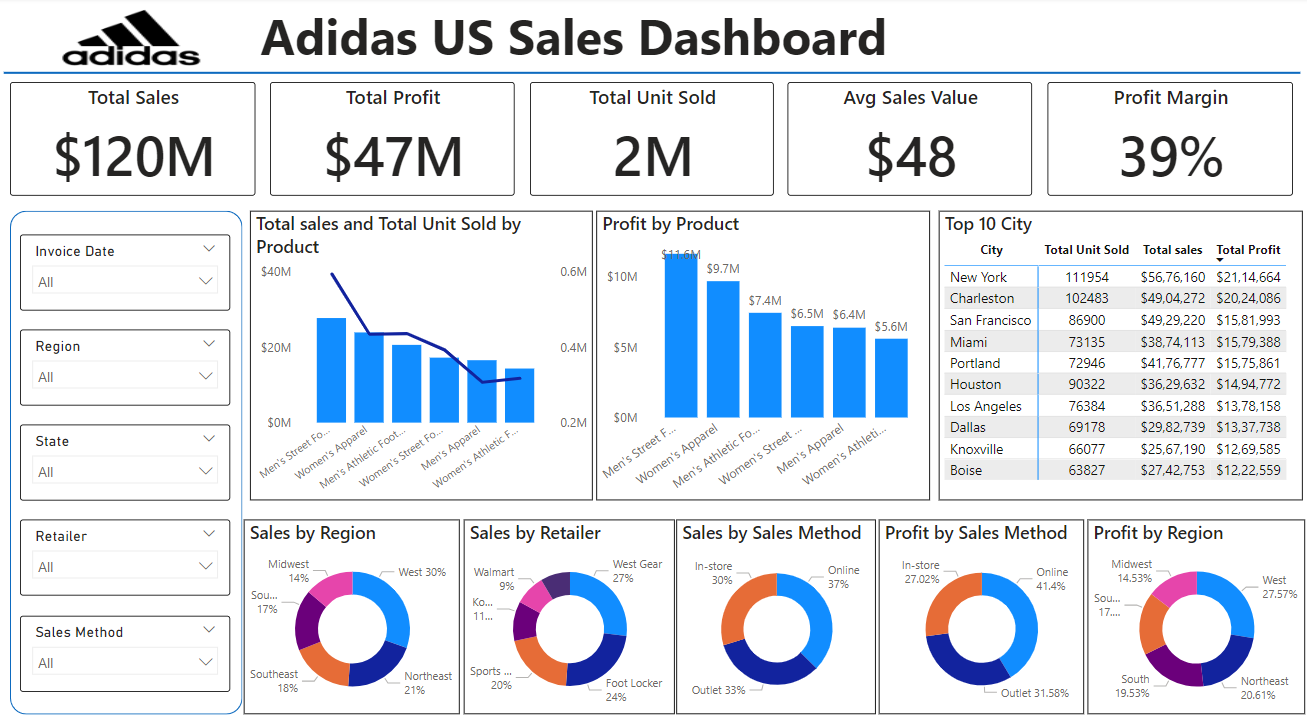

What the dashboard file says about the page in this screenshot:
{"tool":"powerbi","page":{"name":"Page 1","canvas":[1280,720],"ordinal":0},"visuals":[{"type":"shape","box":[9.8,209,227.4,492.6],"z":0},{"type":"slicer","fields":{"Values":["Data Sales Adidas.Region"]},"box":[19.2,324.9,205.7,74],"z":1000},{"type":"slicer","fields":{"Values":["Data Sales Adidas.State"]},"box":[19.2,418.2,205.7,74],"z":2000},{"type":"slicer","fields":{"Values":["Data Sales Adidas.Retailer"]},"box":[19.2,511.4,205.7,74],"z":3000},{"type":"slicer","fields":{"Values":["Data Sales Adidas.Sales Method"]},"box":[19.2,604.6,205.7,74],"z":4000},{"type":"slicer","fields":{"Values":["Data Sales Adidas.Invoice Date.Variation.Date Hierarchy.Year"]},"box":[19.2,231.7,205.7,74],"z":5000},{"type":"textbox","box":[149.4,0,824,75.4],"z":6000},{"type":"shape","box":[4.1,61.7,1268.2,26],"z":7000},{"type":"image","box":[19.6,3.7,217.6,72.1],"z":8000},{"type":"card","title":"Total Sales","fields":{"Values":["Data Sales Adidas.Total sales"]},"box":[9.6,83.6,239.9,111.1],"z":9000},{"type":"card","title":"Total Profit","fields":{"Values":["Data Sales Adidas.Total Profit"]},"box":[264.6,83.6,239,111.1],"z":10000},{"type":"card","title":"Total Unit Sold","fields":{"Values":["Data Sales Adidas.Total Unit Sold"]},"box":[518.3,83.6,238.6,111.1],"z":11000},{"type":"card","title":"Avg Sales Value","fields":{"Values":["Data Sales Adidas.Avg Sales Value"]},"box":[770.5,83.6,239,111.1],"z":12000},{"type":"card","title":"Profit Margin","fields":{"Values":["Data Sales Adidas.Profit Margin %"]},"box":[1024.2,83.6,239.9,111.1],"z":13000},{"type":"lineClusteredColumnComboChart","fields":{"Category":["Data Sales Adidas.Product"],"Y":["Data Sales Adidas.Total sales"],"Y2":["Data Sales Adidas.Total Unit Sold"]},"box":[244.5,209,334.9,283.6],"z":14000},{"type":"pivotTable","title":"Top 10 City","fields":{"Values":["Data Sales Adidas.Total Unit Sold","Data Sales Adidas.Total sales","Data Sales Adidas.Total Profit"],"Rows":["Data Sales Adidas.City"]},"box":[918,209,355.7,283.6],"z":15000},{"type":"donutChart","title":"Sales by Region","fields":{"Y":["Data Sales Adidas.Total sales"],"Category":["Data Sales Adidas.Region"]},"box":[238.4,511,211.5,190.7],"z":16000},{"type":"donutChart","title":"Sales by Retailer","fields":{"Category":["Data Sales Adidas.Retailer"],"Y":["Data Sales Adidas.Total sales"]},"box":[453.5,511,206.6,190.7],"z":17000},{"type":"donutChart","title":"Sales by Sales Method","fields":{"Category":["Data Sales Adidas.Sales Method"],"Y":["Data Sales Adidas.Total sales"]},"box":[661.3,511,195.6,190.7],"z":18000},{"type":"donutChart","title":"Profit by Sales Method","fields":{"Category":["Data Sales Adidas.Sales Method"],"Y":["Data Sales Adidas.Total Profit"]},"box":[859.4,511,200.5,190.7],"z":19000},{"type":"donutChart","title":"Profit by Region","fields":{"Category":["Data Sales Adidas.Region"],"Y":["Data Sales Adidas.Total Profit"]},"box":[1063.5,511,212.7,190.7],"z":20000},{"type":"columnChart","title":"Profit by Product","fields":{"Category":["Data Sales Adidas.Product"],"Y":["Data Sales Adidas.Total Profit"]},"box":[583.1,209,326.4,283.6],"z":20001}]}

Visuals, with their boxes in screenshot pixels (x1, y1, x2, y2), scaled from the page's 1280x720 canvas onto the 1307x721 screenshot:
shape: (10, 209, 242, 703)
slicer - Data Sales Adidas.Region: (20, 325, 230, 399)
slicer - Data Sales Adidas.State: (20, 419, 230, 493)
slicer - Data Sales Adidas.Retailer: (20, 512, 230, 586)
slicer - Data Sales Adidas.Sales Method: (20, 605, 230, 680)
slicer - Data Sales Adidas.Invoice Date.Variation.Date Hierarchy.Year: (20, 232, 230, 306)
textbox: (153, 0, 994, 76)
shape: (4, 62, 1299, 88)
image: (20, 4, 242, 76)
"Total Sales" card: (10, 84, 255, 195)
"Total Profit" card: (270, 84, 514, 195)
"Total Unit Sold" card: (529, 84, 773, 195)
"Avg Sales Value" card: (787, 84, 1031, 195)
"Profit Margin" card: (1046, 84, 1291, 195)
lineClusteredColumnComboChart - Data Sales Adidas.Product x Data Sales Adidas.Total sales: (250, 209, 592, 493)
"Top 10 City" pivotTable: (937, 209, 1301, 493)
"Sales by Region" donutChart: (243, 512, 459, 703)
"Sales by Retailer" donutChart: (463, 512, 674, 703)
"Sales by Sales Method" donutChart: (675, 512, 875, 703)
"Profit by Sales Method" donutChart: (878, 512, 1082, 703)
"Profit by Region" donutChart: (1086, 512, 1303, 703)
"Profit by Product" columnChart: (595, 209, 929, 493)
